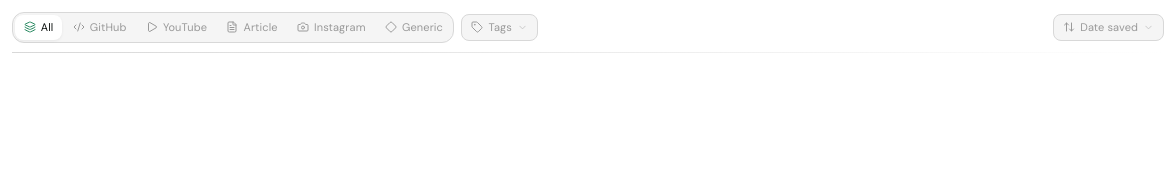
Test: FilterBar › Sort › changes sort on selection
The width and height of the screenshot is (1176, 172).
Click the button "Date saved".
click(1109, 28)  # box [1053,14,1164,41]
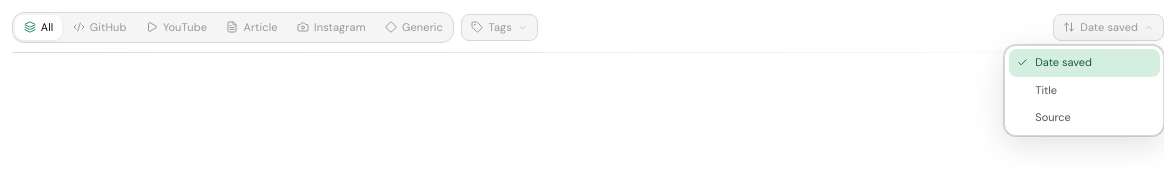
Click the option "Title".
click(1084, 90)  # box [1008,76,1160,104]
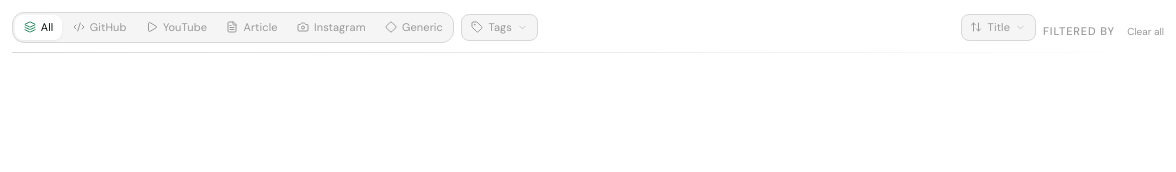
Check: the text "Title" is shown, box [988,20,1010,35]
